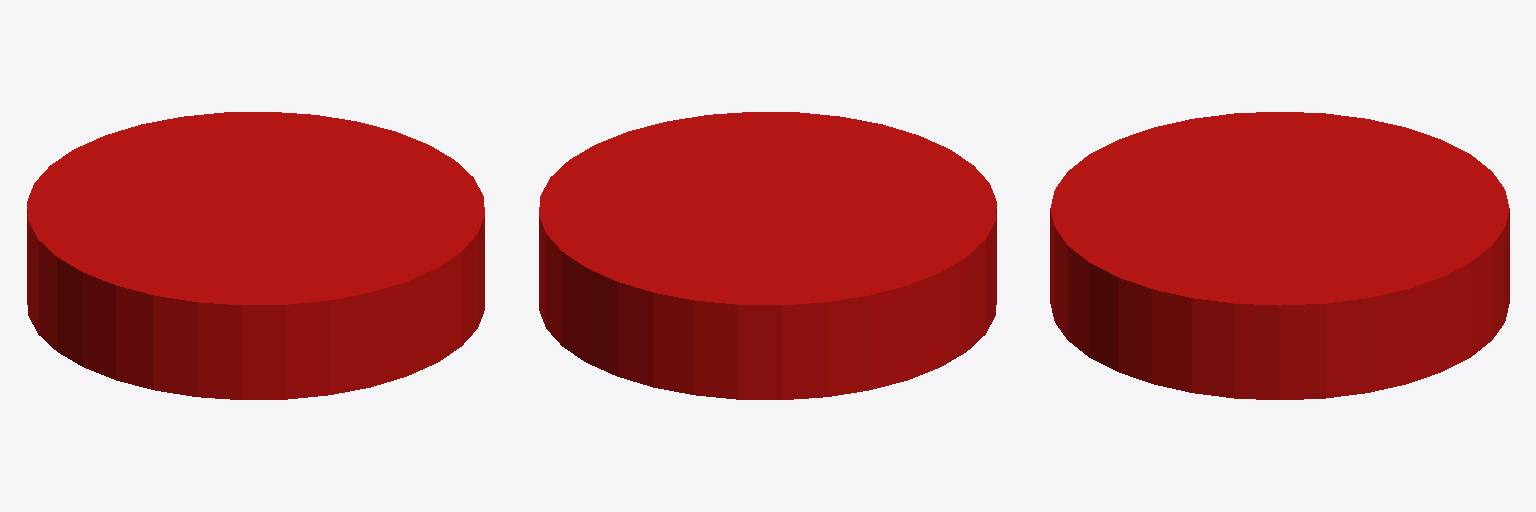
File: button_goal.obj
3 renders of one model, left to right at view 1: azimuth 30°, elevation 25°; view 2: azimuth 150°, elevation 25°; view 3: azimuth 270°, elevation 25°, orthographic.
Parts seen in each view (by area): view 1: button_goal; view 2: button_goal; view 3: button_goal.
Part boxes in pixels (bbox=[...]): button_goal: bbox=[27, 112, 484, 399]; button_goal: bbox=[539, 112, 996, 399]; button_goal: bbox=[1050, 112, 1509, 399].
Size of the model in its own units: 1.11 by 0.2524 by 1.11.